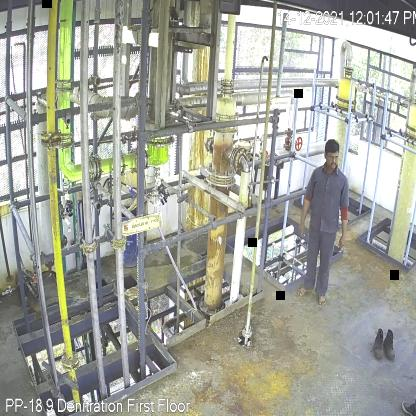no_shoes: (295, 286, 313, 296), (316, 294, 326, 309)
shoes: (372, 327, 387, 361), (384, 330, 397, 360)
